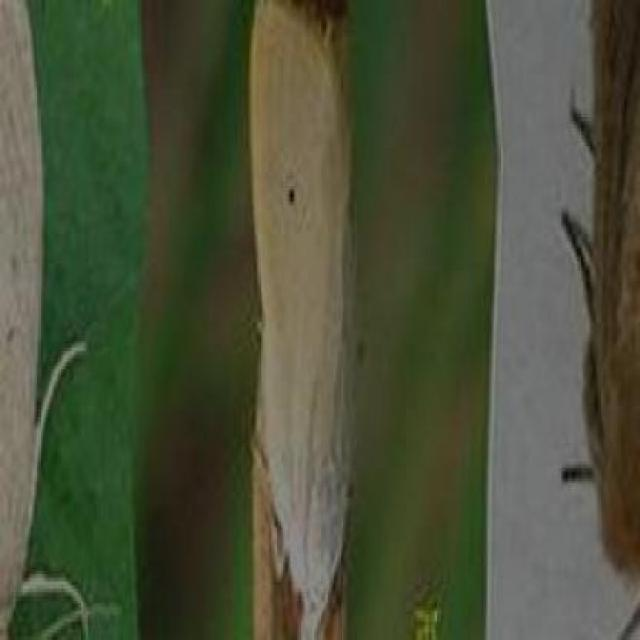stem-borer: (245, 0, 360, 640)
